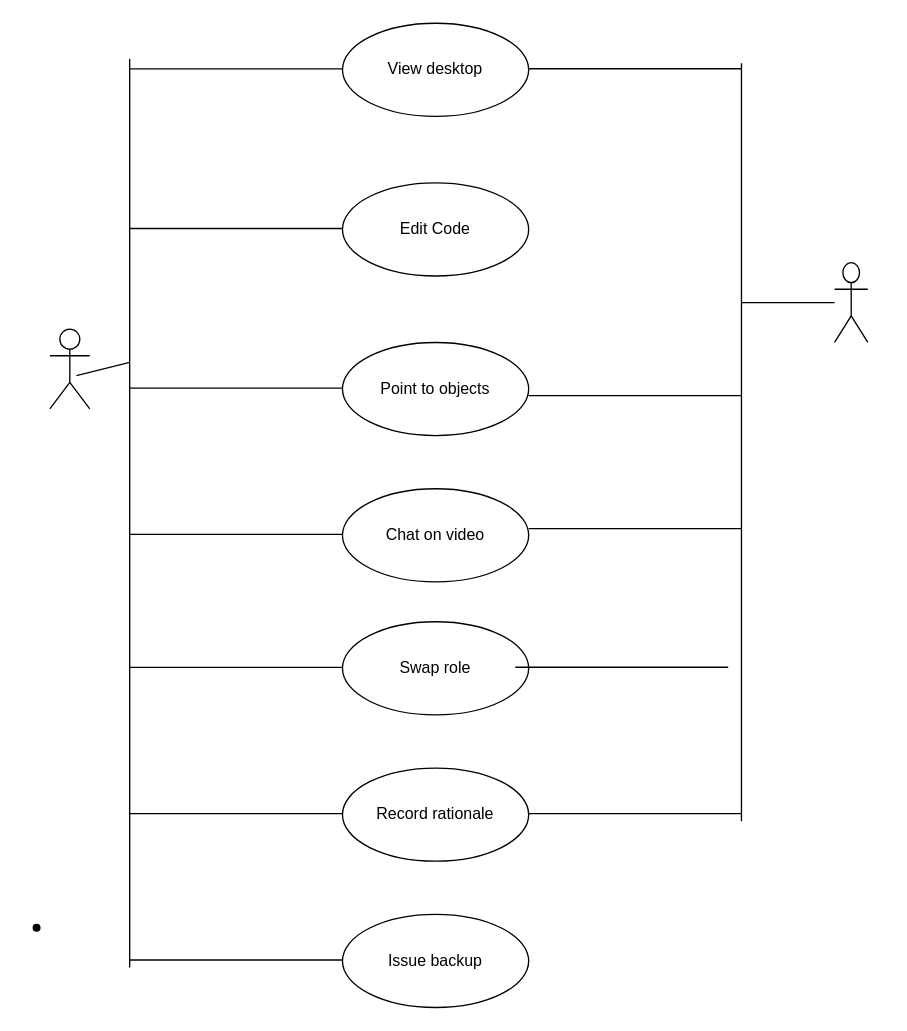
The diagram is 907 pixels wide and 1031 high, and some of its shapes have lost their labels. The shapes that lost their labels are listed below. From the top down, each one's box as (x1, y1, x2, y2) in pixels, then its label:
(833, 261, 868, 342): Observer
(49, 328, 90, 409): Typer
